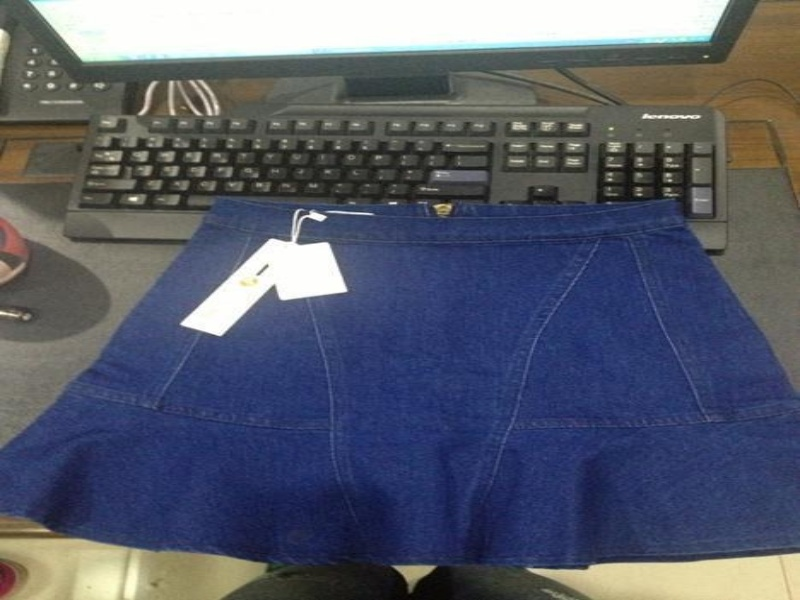skirt: (0, 195, 798, 575)
